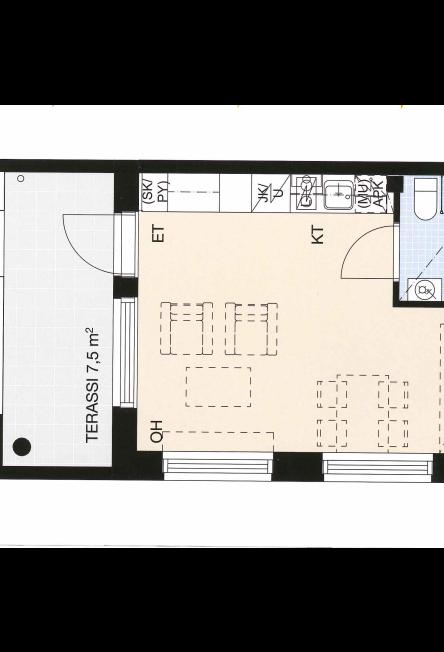bathroom: (395, 174, 444, 303)
door: (59, 204, 144, 280), (338, 220, 404, 284)
perimeter: (111, 161, 444, 479)
window: (158, 442, 282, 486), (106, 285, 146, 411), (316, 446, 439, 486)
